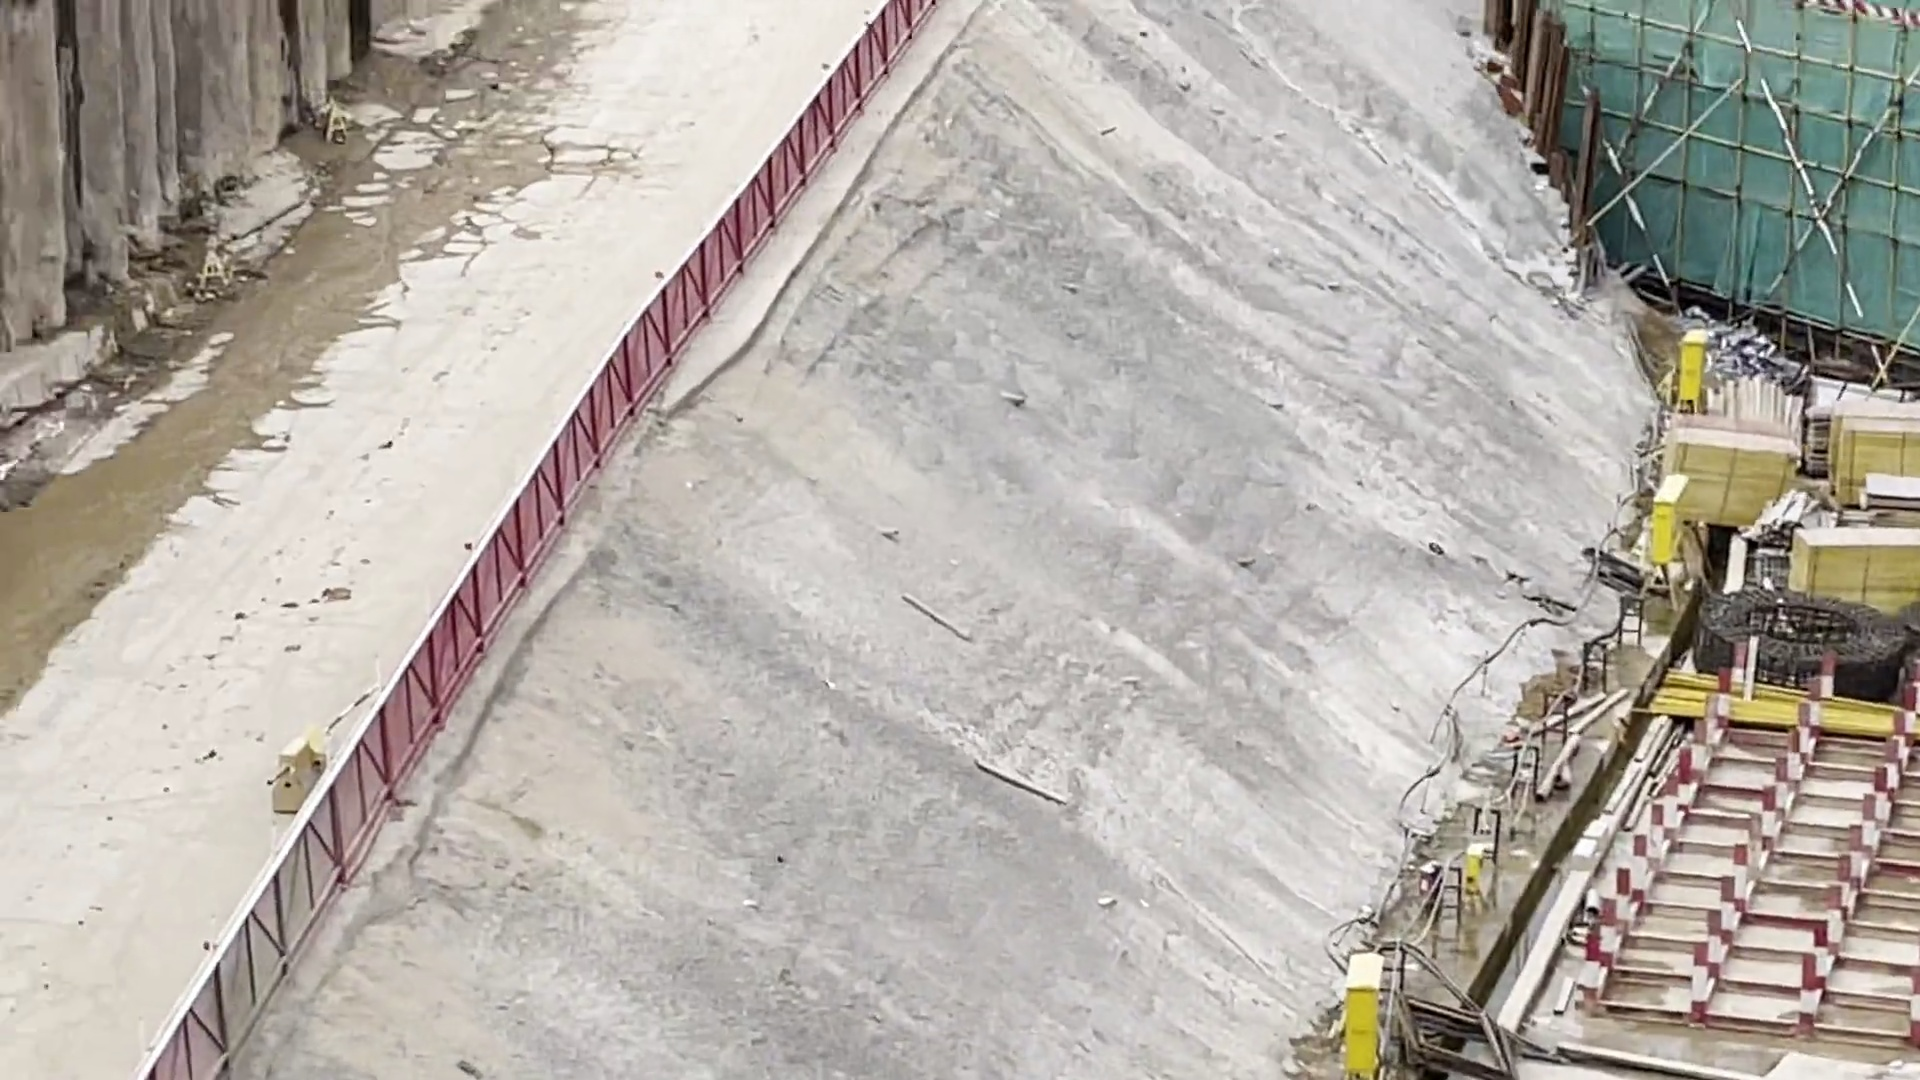ebox: (1337, 953, 1379, 1079), (1654, 469, 1683, 613), (1679, 330, 1702, 414)
fence: (137, 1, 930, 1075)
